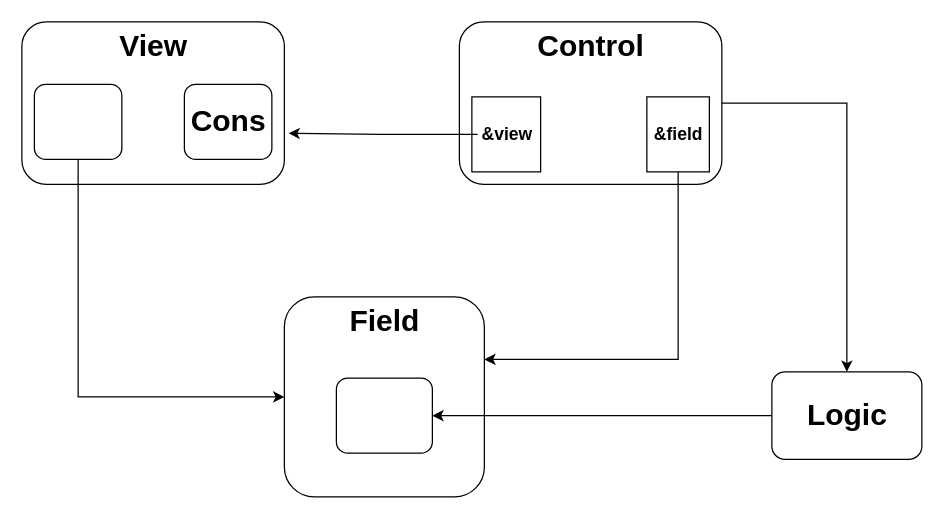
Some shapes in this 944 by 519 pixel diagram are drawn without their labels. The shapes that lost their labels are listed below. From the top down, each one's centre as x and y in pixels, then its label:
At point 77,121: "Grid".
At point 383,415: "Buffer".
